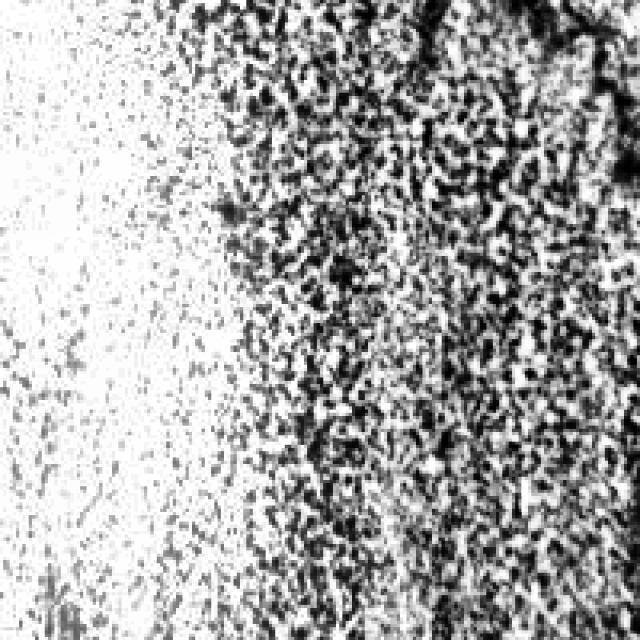Rolled_in_Scale: (179, 0, 634, 634)
